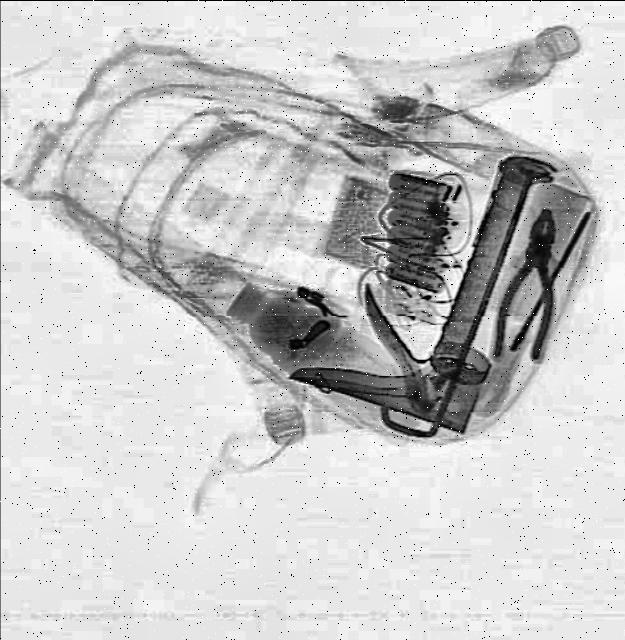Knife: (289, 111, 566, 438)
Pliers: (483, 204, 579, 366)
